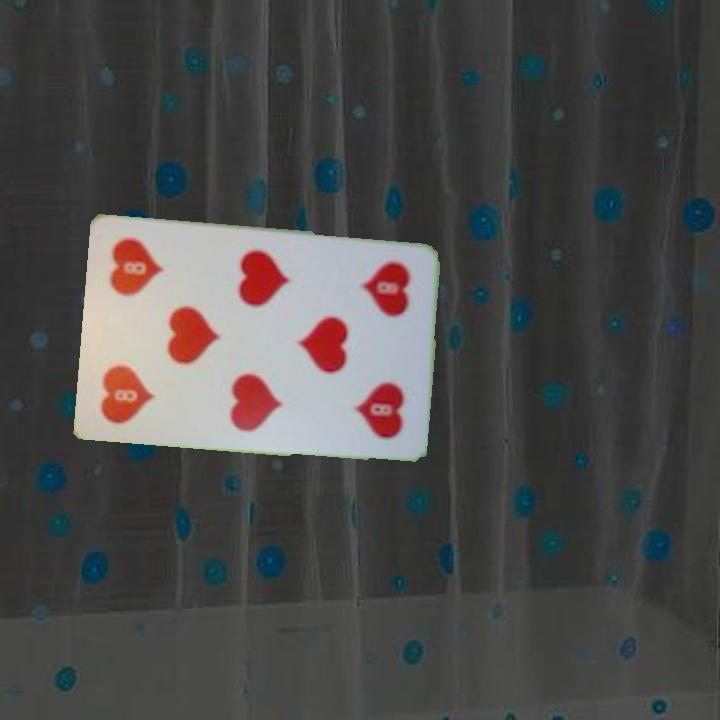h_8.png: (90, 324, 183, 431), (333, 250, 426, 356)
